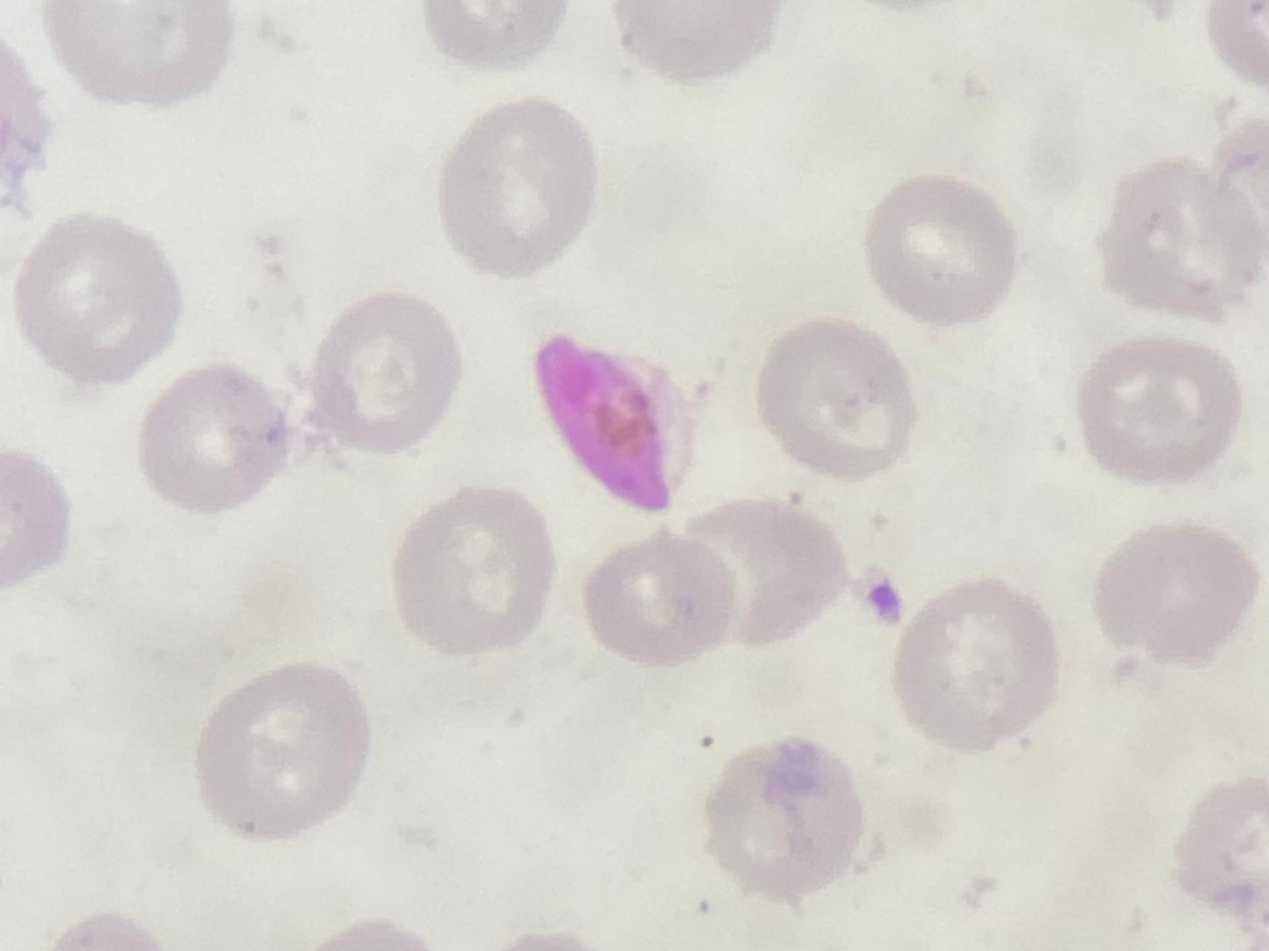Infected: (535, 333, 691, 508)
Uninfected: (194, 665, 369, 840), (9, 214, 180, 383), (890, 581, 1061, 749), (391, 488, 557, 657), (700, 736, 866, 901), (437, 98, 595, 271), (756, 320, 917, 476), (309, 291, 464, 453), (1075, 336, 1240, 482), (1098, 161, 1254, 313), (1092, 524, 1254, 669), (861, 173, 1016, 324), (136, 365, 289, 512), (692, 501, 845, 644), (585, 533, 734, 665)
